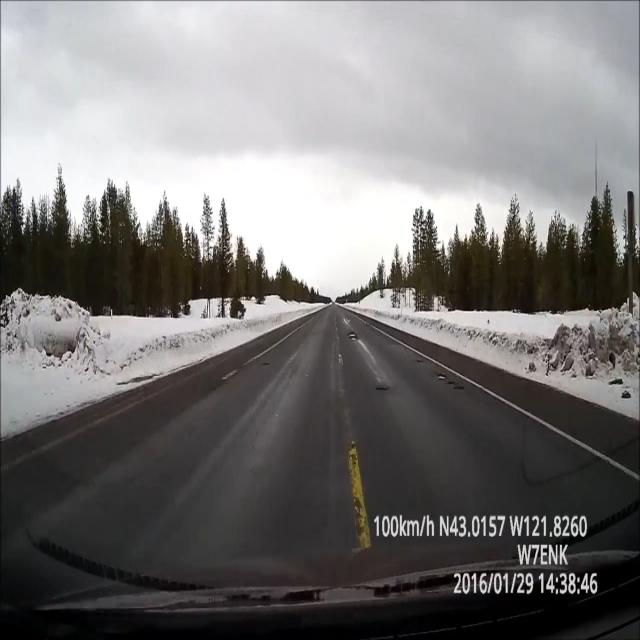Pothole: (342, 328, 367, 339)
